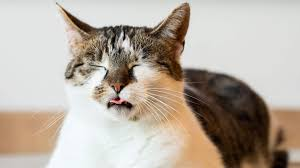cat: (44, 1, 277, 167)
